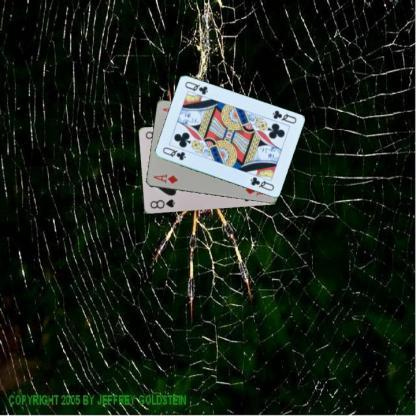8s: (148, 196, 176, 210)
Ad: (150, 171, 178, 185)
Qc: (270, 107, 298, 125), (160, 144, 187, 162)
